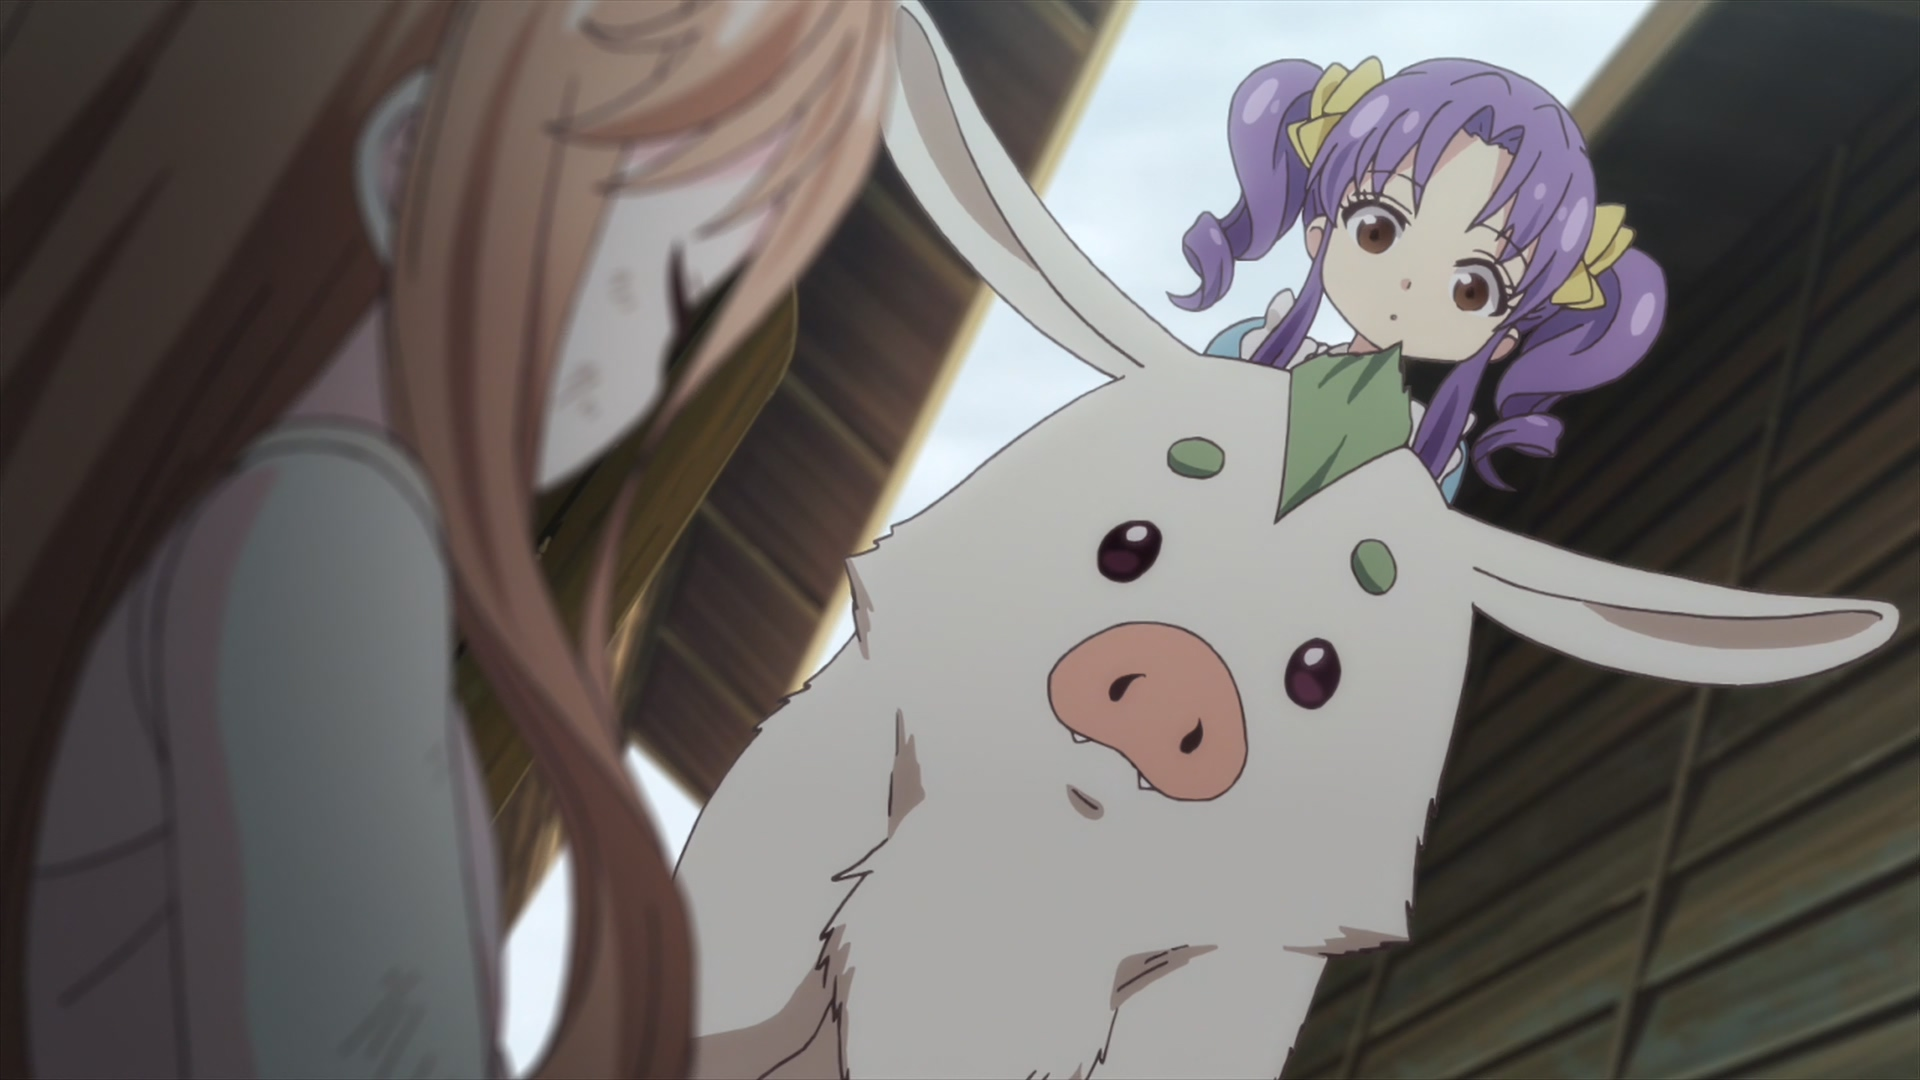其他: (1, 1, 897, 1080)
瓜之介: (675, 1, 1900, 1080)
阿菊: (1167, 55, 1665, 505)
